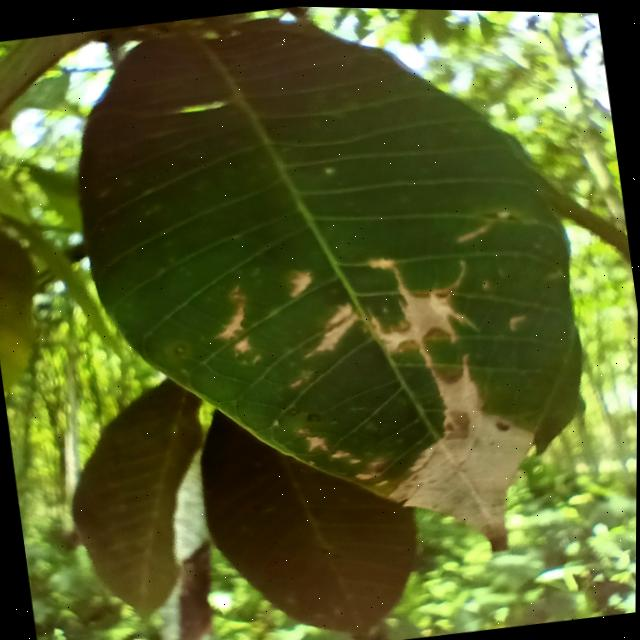Leaf-Blight: (372, 343, 554, 564), (373, 284, 462, 355), (313, 300, 363, 351), (219, 304, 249, 340), (289, 269, 314, 297), (306, 431, 330, 454), (370, 253, 397, 269), (234, 337, 253, 352)
